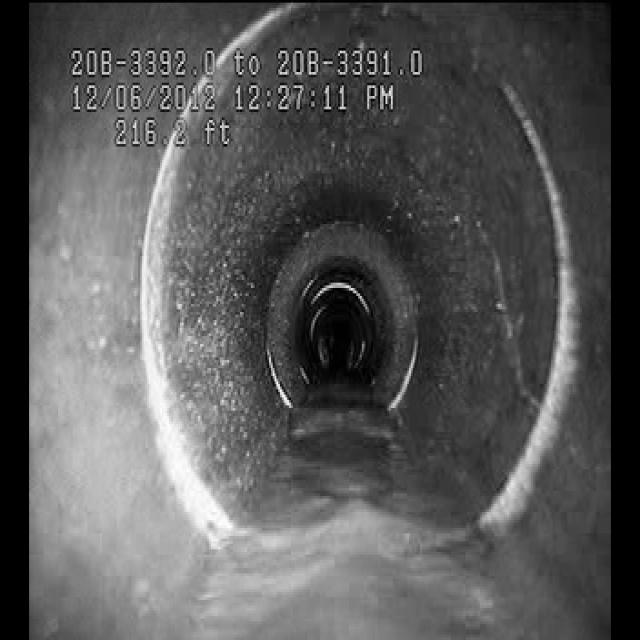Crack: (440, 198, 582, 439)
